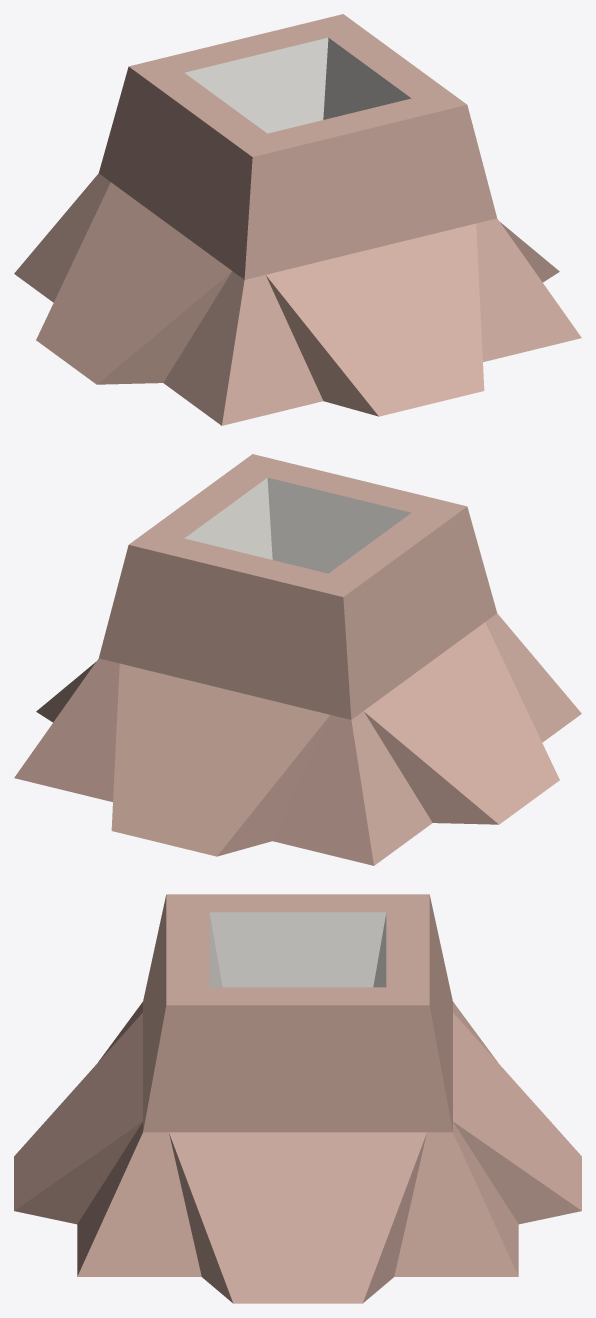
Rendered from stump.glb.
The picture shows the model from 3 angles, top to bottom: view 1: azimuth 30°, elevation 25°; view 2: azimuth 150°, elevation 25°; view 3: azimuth 270°, elevation 25°; orthographic projection. The views are drawn at different scales.
Visible parts, largest first — view 1: stump_squareDetailed; view 2: stump_squareDetailed; view 3: stump_squareDetailed.
Part boxes in pixels (<box>): stump_squareDetailed: <box>14,14,581,425</box>; stump_squareDetailed: <box>14,454,581,865</box>; stump_squareDetailed: <box>14,894,581,1303</box>.
Bounding box in the file's own units: 0.44 × 0.2 × 0.44.
